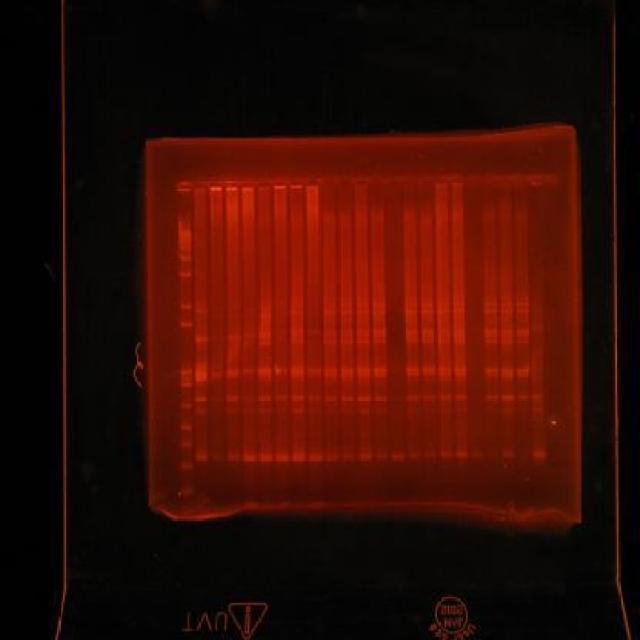B: (291, 452, 307, 463), (531, 449, 547, 460), (274, 452, 291, 462), (323, 452, 340, 462), (258, 452, 274, 462), (341, 452, 356, 462), (241, 453, 257, 462), (227, 452, 241, 462), (194, 452, 209, 461), (273, 394, 289, 402), (308, 454, 324, 462), (274, 407, 290, 415), (290, 407, 306, 415), (306, 407, 322, 415), (323, 394, 339, 402), (340, 394, 356, 402), (340, 407, 356, 415), (356, 394, 372, 402), (373, 394, 389, 402), (390, 452, 404, 461), (454, 450, 468, 459), (408, 450, 422, 459), (241, 394, 256, 402), (358, 452, 373, 460), (501, 450, 516, 458), (357, 407, 372, 415), (210, 453, 224, 461), (374, 452, 388, 460), (422, 451, 438, 458), (226, 406, 240, 414), (242, 407, 256, 415), (258, 407, 272, 415), (340, 366, 354, 374), (406, 407, 420, 415), (420, 302, 434, 310), (195, 408, 208, 416), (470, 451, 484, 458), (439, 451, 453, 458), (321, 338, 337, 344), (308, 394, 324, 400), (323, 408, 339, 414), (372, 367, 388, 373), (356, 367, 372, 373), (322, 303, 338, 309), (321, 310, 337, 316), (354, 302, 370, 308), (338, 308, 354, 314), (483, 307, 499, 313), (483, 328, 499, 334), (500, 334, 516, 340), (403, 302, 419, 308), (371, 302, 386, 308), (484, 367, 499, 373), (210, 370, 224, 376), (242, 368, 256, 374), (258, 368, 272, 374), (292, 394, 306, 400), (258, 396, 272, 402), (226, 396, 240, 402), (194, 340, 208, 346), (194, 308, 208, 314), (194, 302, 208, 308), (258, 340, 272, 346), (212, 334, 226, 340), (290, 338, 304, 344), (323, 334, 337, 340), (373, 407, 387, 413), (290, 310, 304, 316), (290, 303, 304, 309), (210, 314, 224, 320), (258, 306, 272, 312), (373, 338, 387, 344), (372, 308, 386, 314), (340, 338, 354, 344), (356, 308, 370, 314), (454, 394, 468, 400), (453, 366, 467, 372), (438, 366, 452, 372), (438, 377, 452, 383), (438, 394, 452, 400), (438, 407, 452, 413), (422, 366, 436, 372), (406, 366, 420, 372), (486, 394, 500, 400), (500, 408, 514, 414), (516, 368, 530, 374), (500, 368, 514, 374), (516, 308, 530, 314), (516, 302, 530, 308), (516, 338, 530, 344), (500, 308, 514, 314), (500, 302, 514, 308), (452, 308, 466, 314), (420, 308, 434, 314), (437, 338, 451, 344), (406, 334, 420, 340), (404, 328, 418, 334), (420, 338, 434, 344), (420, 328, 434, 334), (404, 310, 418, 316), (452, 302, 466, 308), (323, 373, 339, 378), (306, 372, 322, 377), (372, 329, 388, 334), (338, 303, 354, 308), (500, 373, 516, 378), (195, 396, 208, 402), (531, 406, 544, 412), (531, 394, 544, 400), (484, 339, 499, 344), (437, 330, 452, 335), (228, 334, 240, 340), (454, 338, 466, 344), (194, 373, 208, 378), (210, 375, 224, 380), (226, 370, 240, 375), (242, 373, 256, 378), (258, 373, 272, 378), (274, 372, 288, 377), (290, 373, 304, 378), (194, 336, 208, 341), (227, 339, 241, 344), (227, 343, 241, 348), (258, 335, 272, 340), (212, 339, 226, 344), (290, 329, 304, 334), (307, 329, 321, 334), (324, 330, 338, 335), (373, 373, 387, 378), (356, 373, 370, 378), (340, 373, 354, 378), (356, 329, 370, 334), (356, 339, 370, 344), (453, 372, 467, 377), (438, 372, 452, 377), (422, 395, 436, 400), (406, 395, 420, 400), (500, 395, 514, 400), (516, 395, 530, 400), (516, 372, 530, 377), (484, 373, 498, 378), (516, 329, 530, 334), (516, 333, 530, 338), (500, 329, 514, 334), (500, 340, 514, 345), (436, 310, 450, 315), (406, 339, 420, 344), (420, 333, 434, 338), (452, 329, 466, 334), (195, 346, 208, 351), (195, 315, 208, 320), (195, 322, 208, 327), (259, 313, 272, 318), (531, 366, 544, 371), (306, 368, 322, 372), (372, 334, 388, 338), (436, 334, 452, 338), (340, 329, 352, 334), (484, 334, 499, 338), (194, 378, 208, 382), (274, 368, 288, 372), (290, 368, 304, 372), (258, 332, 272, 336), (290, 334, 304, 338), (324, 368, 338, 372), (356, 334, 370, 338), (340, 334, 354, 338), (454, 408, 468, 412), (422, 372, 436, 376), (406, 372, 420, 376), (484, 302, 498, 306), (452, 334, 466, 338), (226, 374, 239, 378), (242, 333, 255, 336)
L: (173, 171, 564, 197)
M: (174, 179, 194, 512)
P: (178, 422, 192, 433), (178, 487, 192, 496), (177, 253, 192, 261), (178, 462, 192, 470), (178, 368, 192, 376), (178, 302, 192, 310), (178, 270, 192, 278), (178, 441, 192, 448), (178, 402, 192, 408), (178, 322, 192, 328), (178, 246, 192, 252), (177, 240, 191, 246), (177, 230, 191, 236), (177, 236, 191, 242), (178, 383, 192, 388)
Pc: (544, 172, 562, 190), (463, 174, 482, 191), (513, 172, 529, 188), (400, 174, 418, 188), (481, 174, 497, 189), (240, 178, 256, 192), (418, 174, 434, 188), (353, 174, 369, 188), (528, 174, 544, 188), (498, 174, 514, 188), (176, 180, 193, 193), (224, 178, 239, 192), (371, 176, 386, 190), (434, 175, 450, 188), (386, 176, 402, 189), (256, 177, 270, 191), (322, 176, 336, 190), (450, 174, 464, 188), (337, 175, 352, 188), (289, 177, 303, 190), (208, 180, 222, 192), (306, 178, 320, 190), (272, 178, 288, 188), (194, 182, 208, 192)
